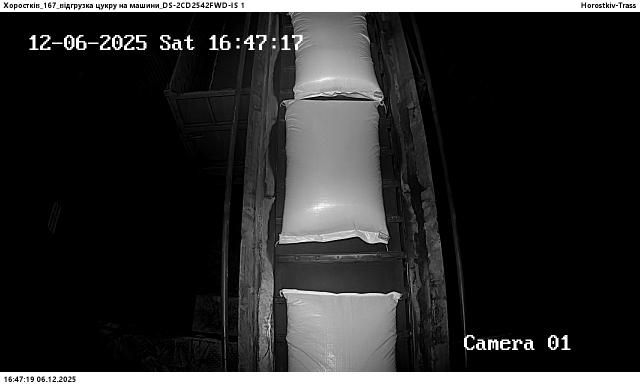bag: (280, 100, 390, 244), (283, 289, 402, 372), (292, 12, 382, 102)
